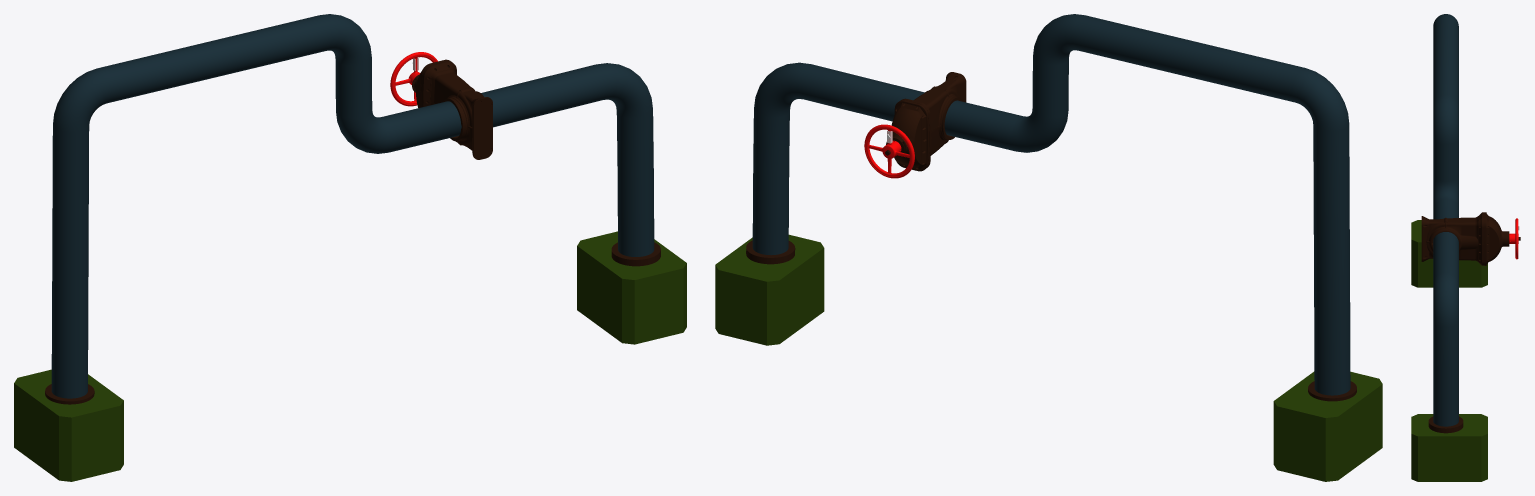
Rendered from Valveassembly.FBX.
The picture shows the model from 3 angles, left to right: view 1: azimuth 30°, elevation 25°; view 2: azimuth 150°, elevation 25°; view 3: azimuth 270°, elevation 25°; orthographic projection. The views are drawn at different scales.
Visible parts, largest first — view 1: Line001, Box001, Body_thin_v4, Body_thick_v4, Shape001, Wheel_v2_-_wheel; view 2: Line001, Box001, Cap_v2_with_shaft_-__cap, Body_thin_v4, Wheel_v2_-_wheel, Shape001; view 3: Line001, Box001, Body_thick_v4, Cap_v2_with_shaft_-__cap, Shape001, Wheel_v2_-_wheel.
Boxes of the visible parts, x1=… form: Line001: x1=51, y1=14, x2=654, y2=398; Box001: x1=14, y1=231, x2=686, y2=481; Body_thin_v4: x1=421, y1=63, x2=479, y2=159; Body_thick_v4: x1=435, y1=60, x2=492, y2=159; Shape001: x1=45, y1=242, x2=660, y2=404; Wheel_v2_-_wheel: x1=390, y1=52, x2=437, y2=106; Line001: x1=752, y1=14, x2=1350, y2=395; Box001: x1=715, y1=234, x2=1382, y2=481; Cap_v2_with_shaft_-__cap: x1=886, y1=100, x2=929, y2=171; Body_thin_v4: x1=917, y1=74, x2=966, y2=167; Wheel_v2_-_wheel: x1=864, y1=124, x2=914, y2=178; Shape001: x1=746, y1=240, x2=1356, y2=401; Line001: x1=1433, y1=14, x2=1458, y2=426; Box001: x1=1411, y1=220, x2=1487, y2=481; Body_thick_v4: x1=1421, y1=214, x2=1484, y2=265; Cap_v2_with_shaft_-__cap: x1=1484, y1=212, x2=1509, y2=265; Shape001: x1=1428, y1=416, x2=1463, y2=433; Wheel_v2_-_wheel: x1=1509, y1=218, x2=1518, y2=259.
Size of the model in its own units: 1367 by 793 by 292.
